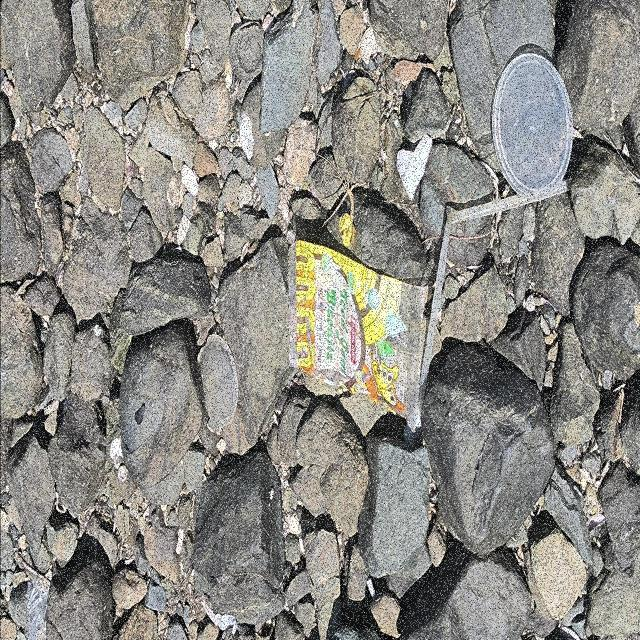plastic_waste: (419, 188, 571, 416), (288, 239, 430, 435), (492, 52, 575, 205)
